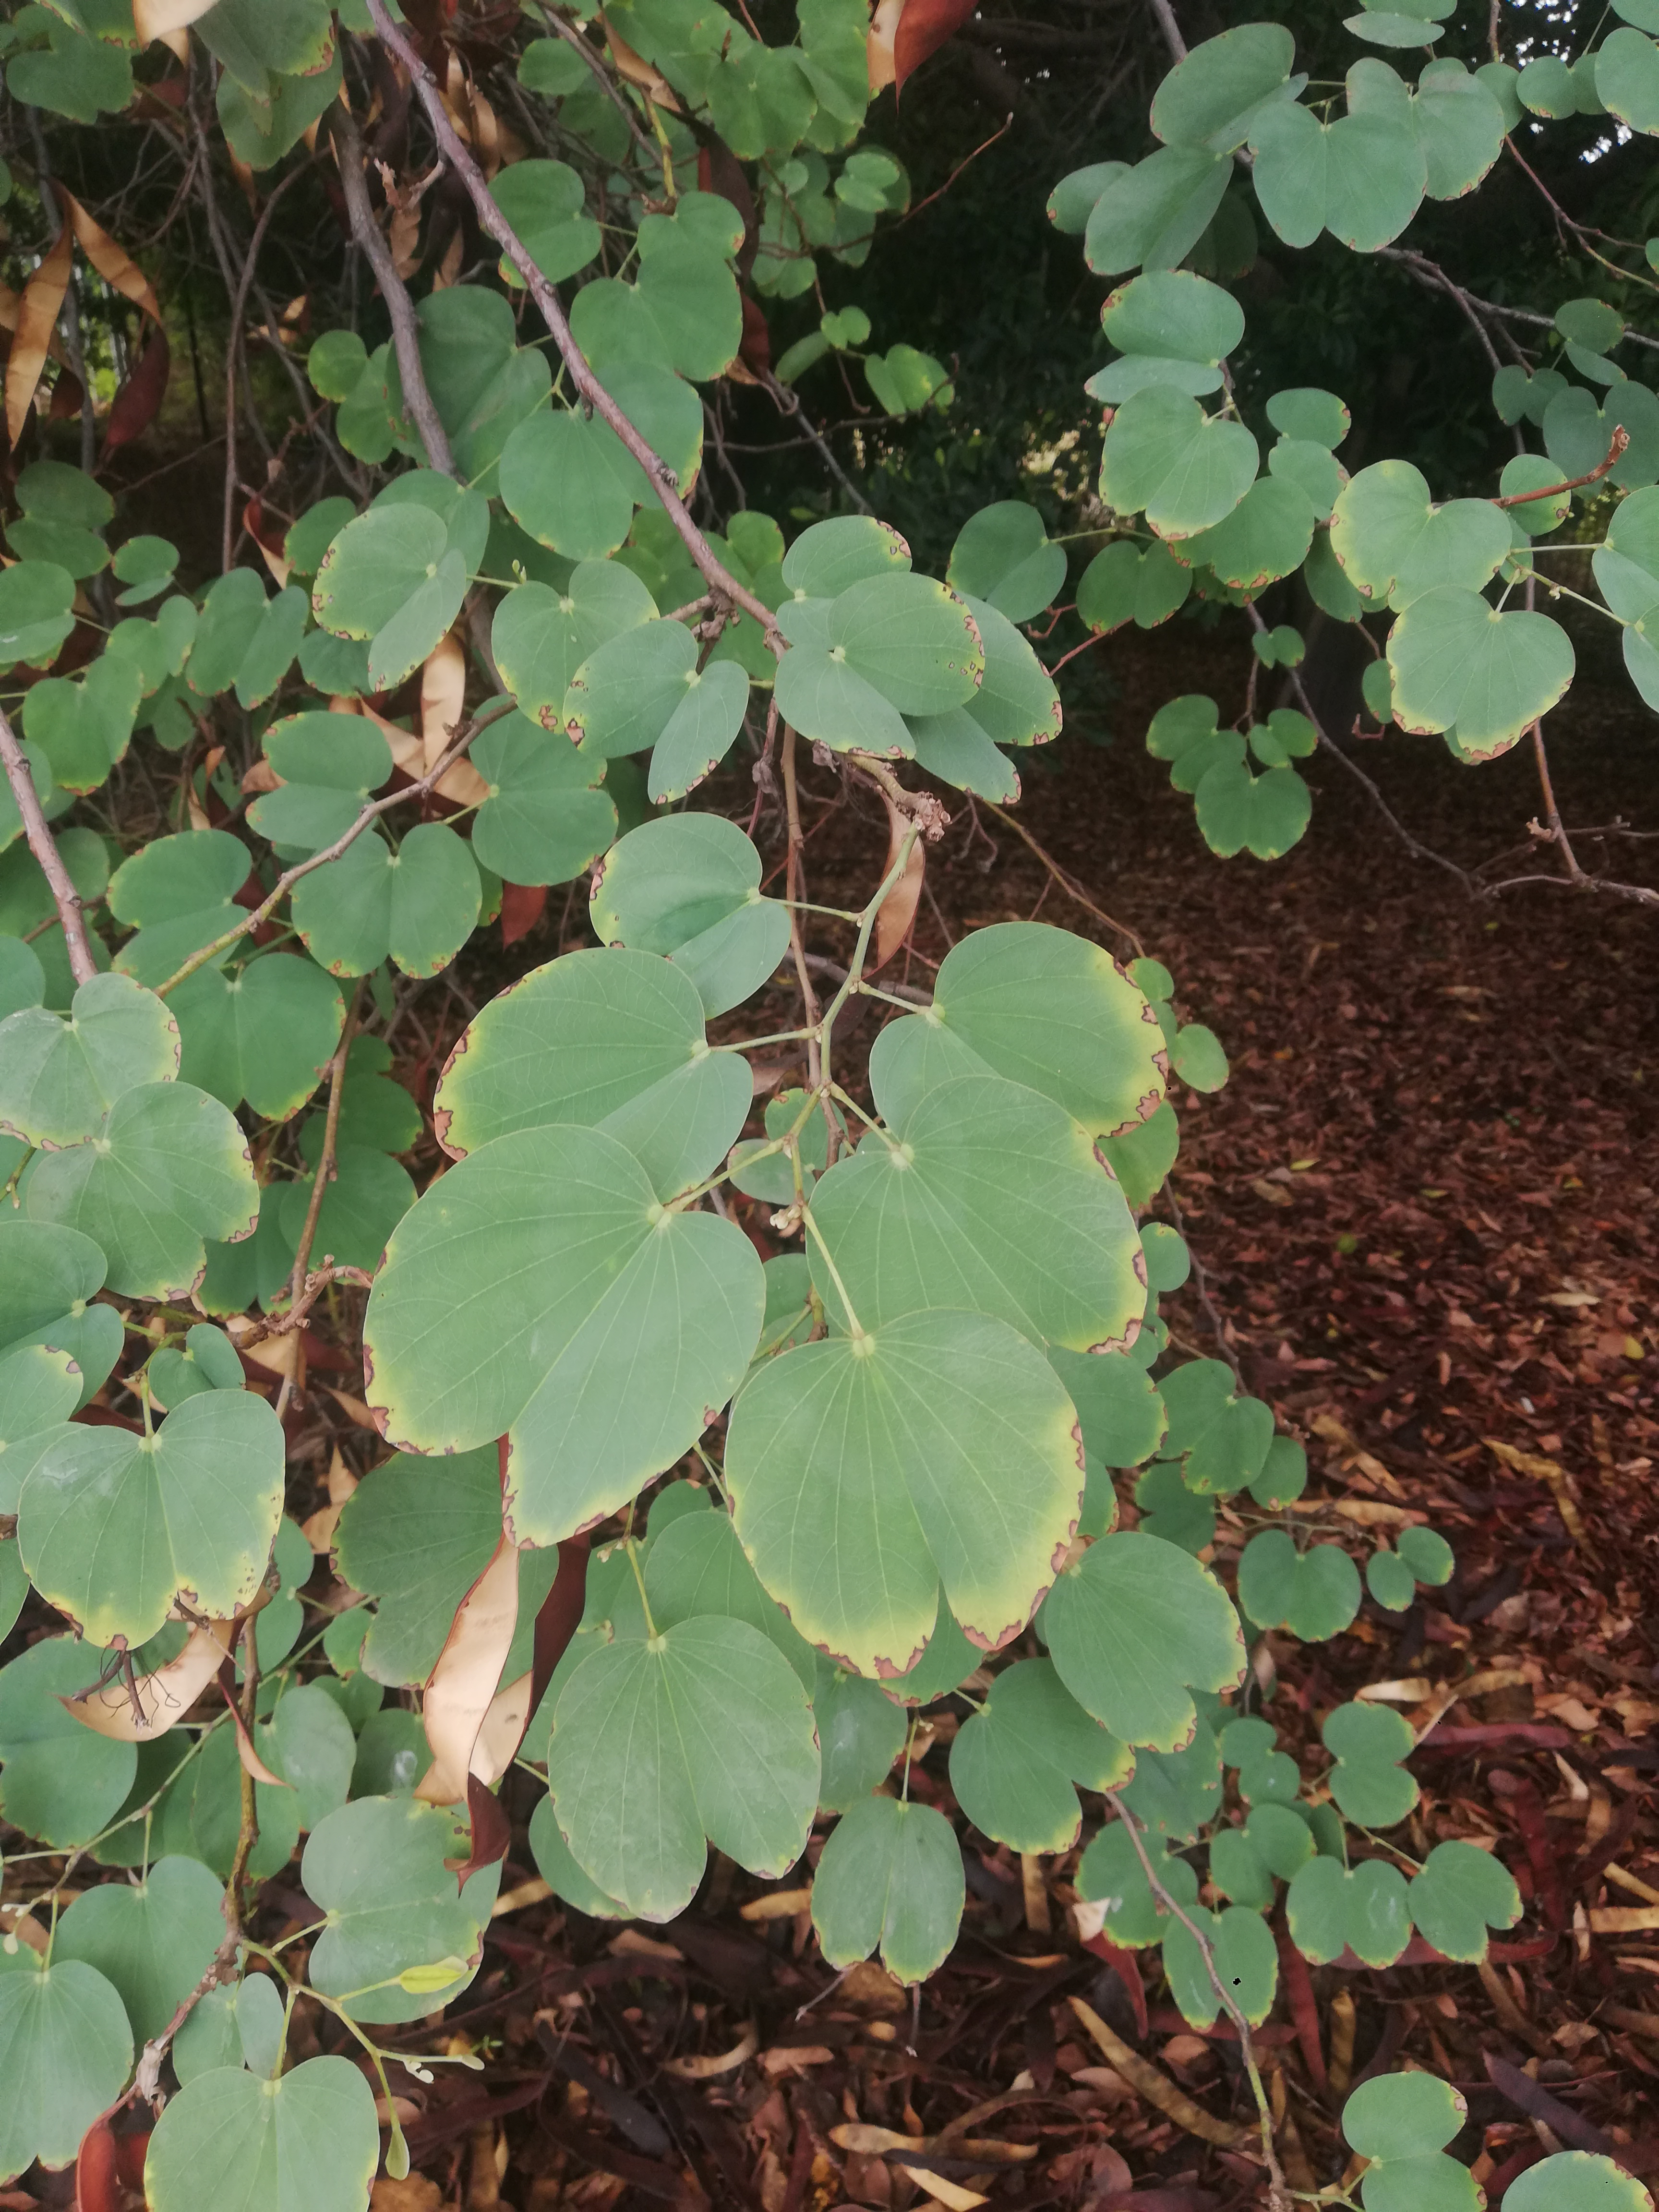nothealthy: (355, 1094, 816, 1569), (692, 1324, 1096, 1691), (425, 939, 765, 1226), (0, 1374, 305, 1656), (1042, 1531, 1246, 1752), (1373, 583, 1579, 763), (310, 491, 476, 695)
